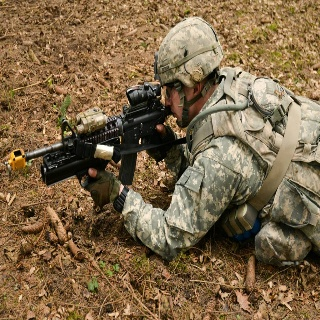rifle: (7, 80, 182, 186)
